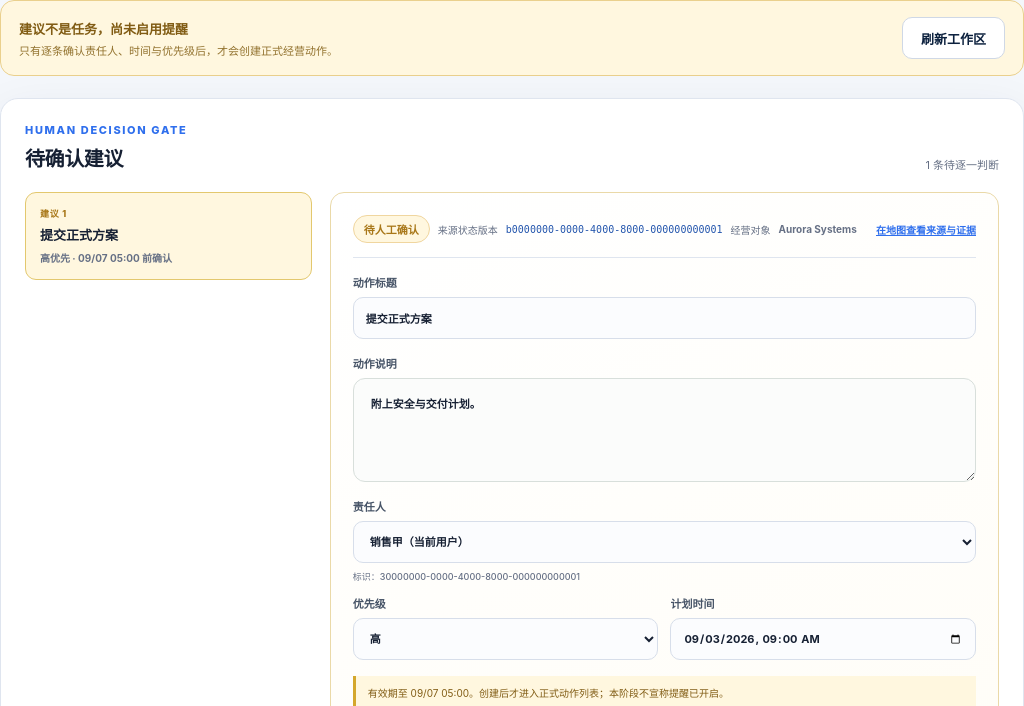
Test: ActionWorkspace › requires owner, time and priority before explicitly creating an action
Check: the heading "待确认建议" is shown, box x1=25 y1=147 x2=123 y2=171
Step 1. Select "请选择责任人" in the dropdown labelled "责任人" → coordinates (664, 542), box x1=353 y1=521 x2=976 y2=563
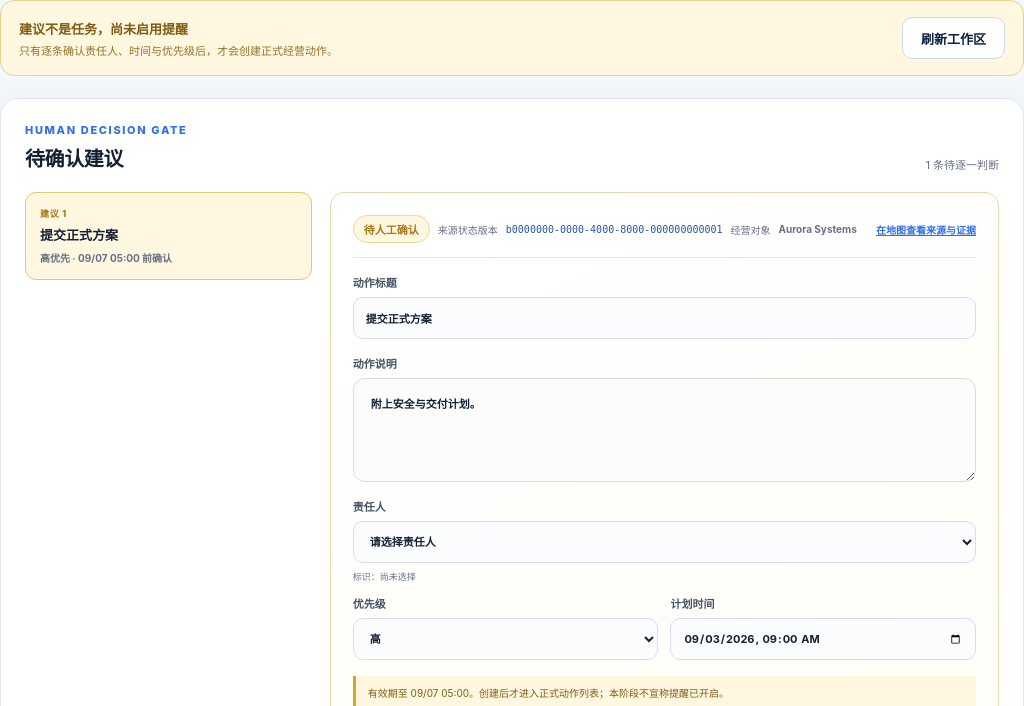
Step 2. Select "销售甲（当前用户）" in the dropdown labelled "责任人" → coordinates (664, 542), box x1=353 y1=521 x2=976 y2=563
(page scrolled)
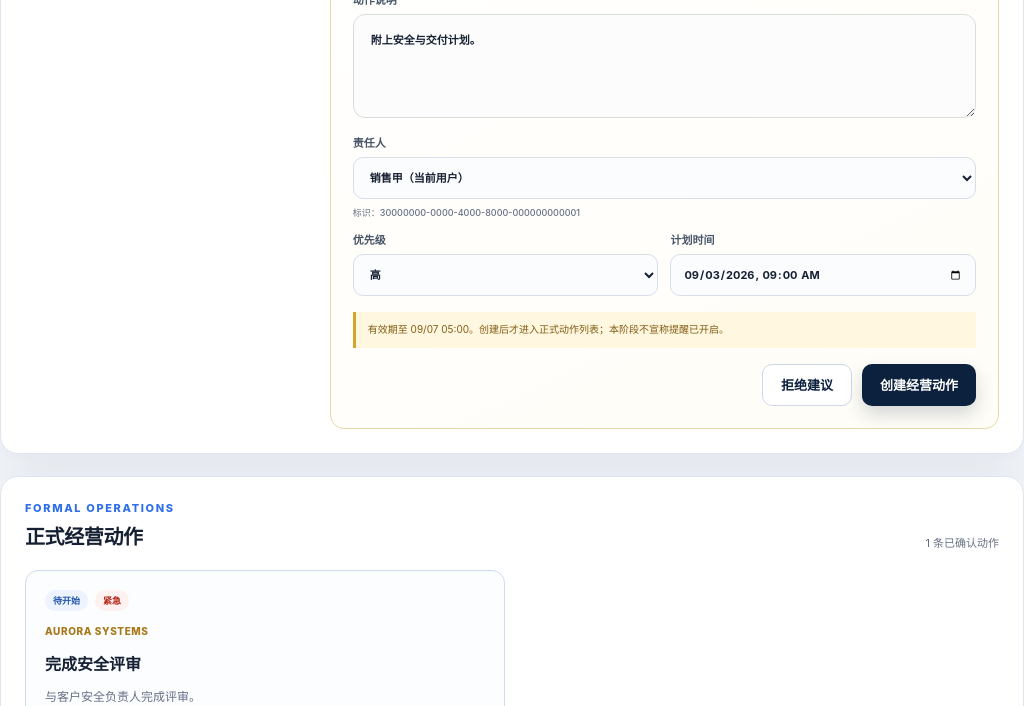
Step 3. Click the button "创建经营动作" → coordinates (919, 384), box x1=862 y1=364 x2=976 y2=406
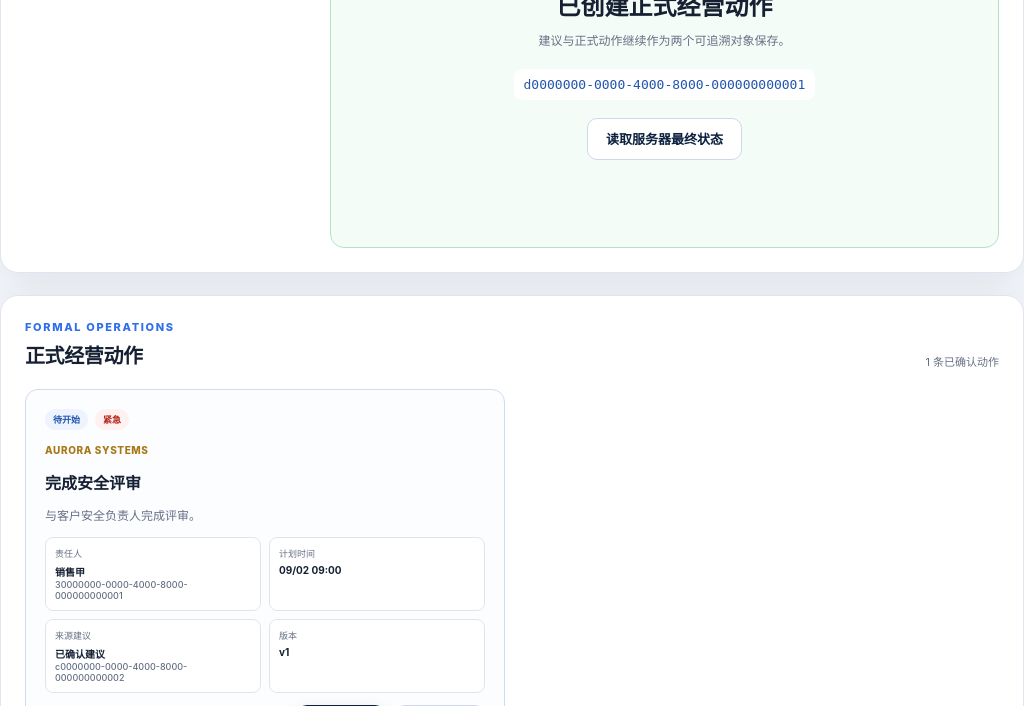
Check: the text "d0000000-0000-4000-8000-000000000001" is shown, box x1=514 y1=69 x2=815 y2=100
